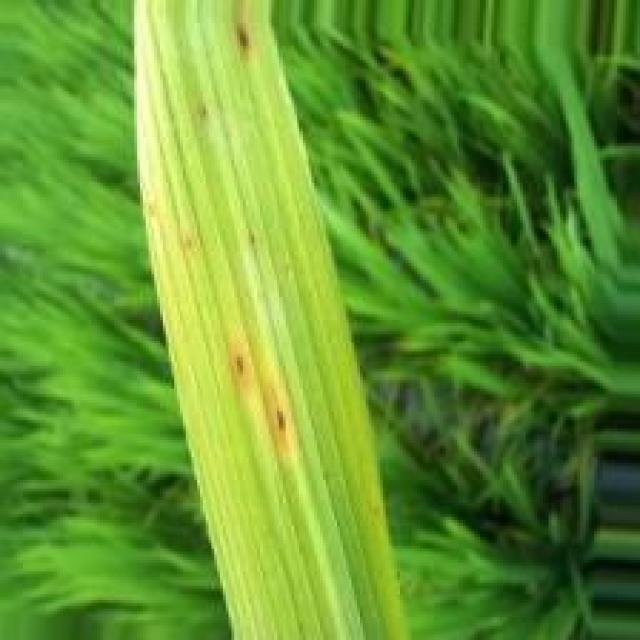Brown_Spot: (261, 394, 293, 451), (230, 345, 248, 390), (234, 19, 248, 60)
